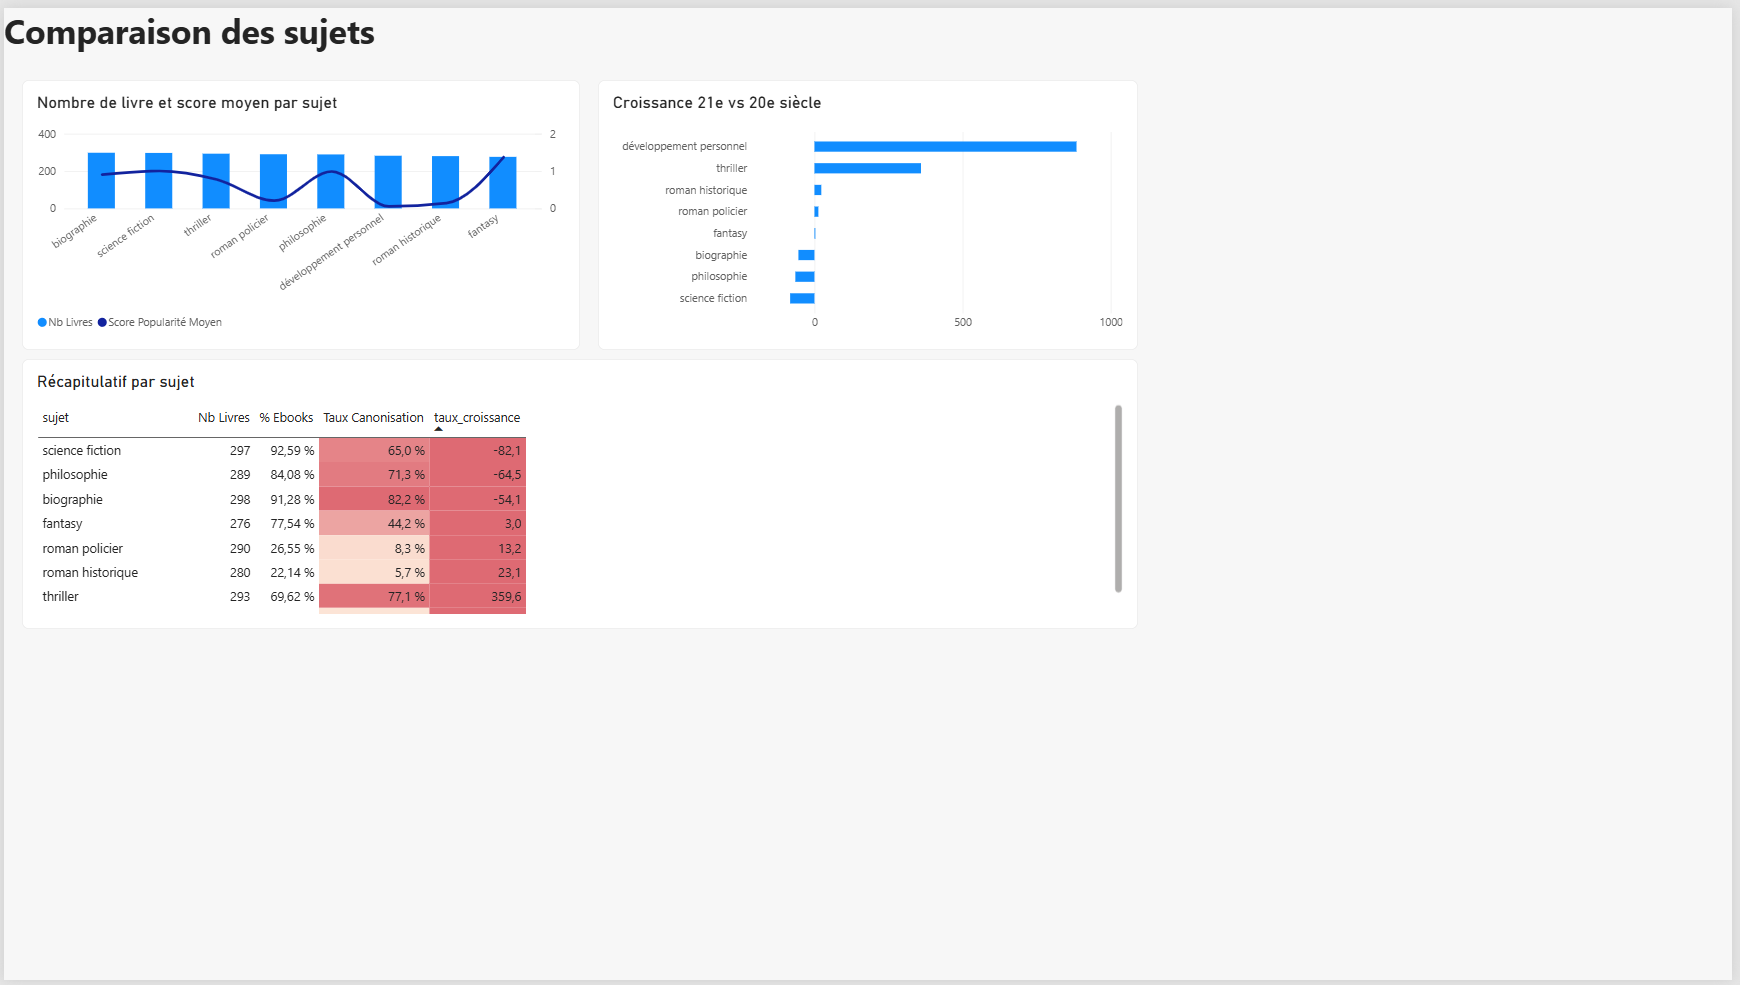

The dashboard page shown, as its layout file describes it:
{"tool":"powerbi","page":{"name":"Comparaison des sujets","canvas":[1920,1080],"ordinal":4},"visuals":[{"type":"textbox","box":[0,0,1280,70],"z":0},{"type":"lineClusteredColumnComboChart","title":"Nombre de livre et score moyen par sujet","fields":{"Category":["Dim_Sujets.sujet"],"Y":["_Mesures.Nb Livres"],"Y2":["_Mesures.Score Popularité Moyen"]},"box":[20,80,620,300],"z":1000},{"type":"tableEx","title":"Récapitulatif par sujet","fields":{"Values":["Fact_Livres.sujet","_Mesures.Nb Livres","_Mesures.% Ebooks","_Mesures.Taux Canonisation","Dim_Sujets.taux_croissance"]},"box":[20,390,1240,300],"z":2000},{"type":"clusteredBarChart","title":"Croissance 21e vs 20e siècle","fields":{"Category":["Dim_Sujets.sujet"],"Y":["Avg(Dim_Sujets.taux_croissance)"]},"box":[660,80,600,300],"z":3000}]}

Visuals, with their boxes in screenshot pixels (x1, y1, x2, y2), scaled from the page's 1920x1080 canvas onto the 1740x985 screenshot:
textbox: x1=0, y1=0, x2=1160, y2=64
"Nombre de livre et score moyen par sujet" lineClusteredColumnComboChart: x1=18, y1=73, x2=580, y2=347
"Récapitulatif par sujet" tableEx: x1=18, y1=356, x2=1142, y2=629
"Croissance 21e vs 20e siècle" clusteredBarChart: x1=598, y1=73, x2=1142, y2=347
